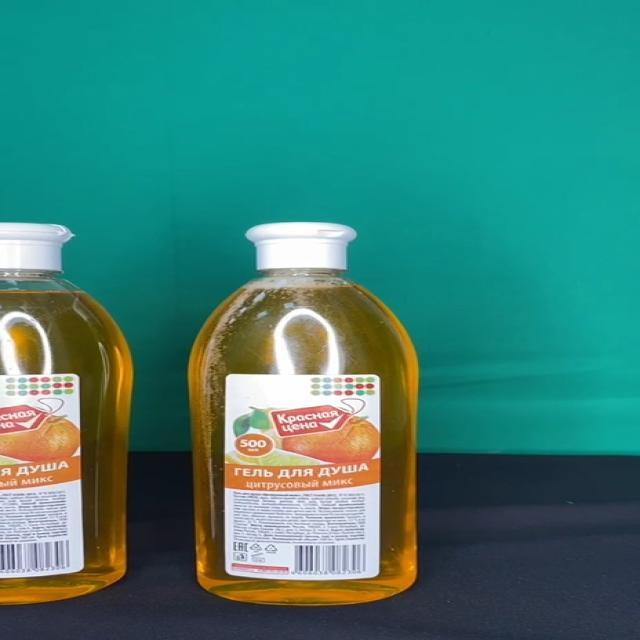Bottle: (186, 222, 422, 605)
Cap: (246, 222, 358, 269)
